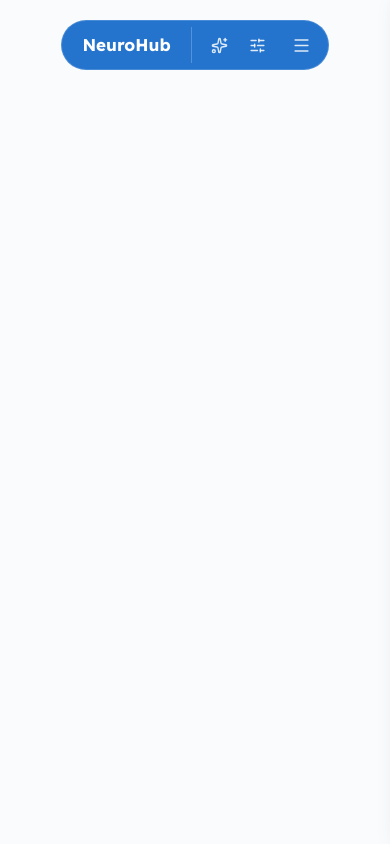
Scenario: Nav › toggles nav__links--open class when hamburger is clicked
This screenshot has width=390, height=844.
Click the button named "Abrir menú de navegación" at [302, 45], box x1=284 y1=27 x2=320 y2=63
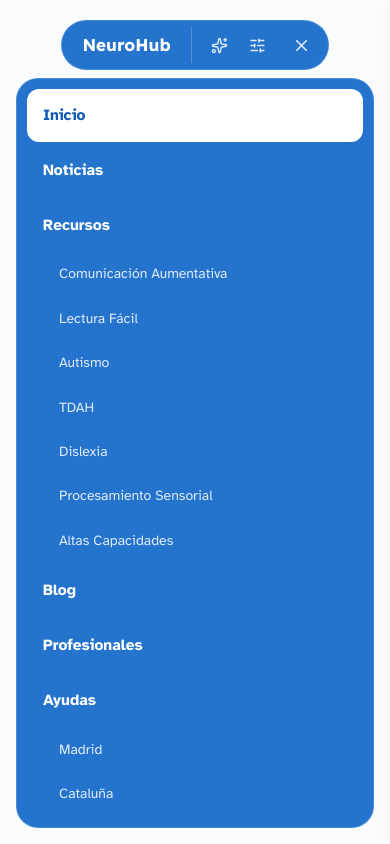
Result: the button named "Abrir menú de navegación" is expanded at x1=284 y1=27 x2=320 y2=63
